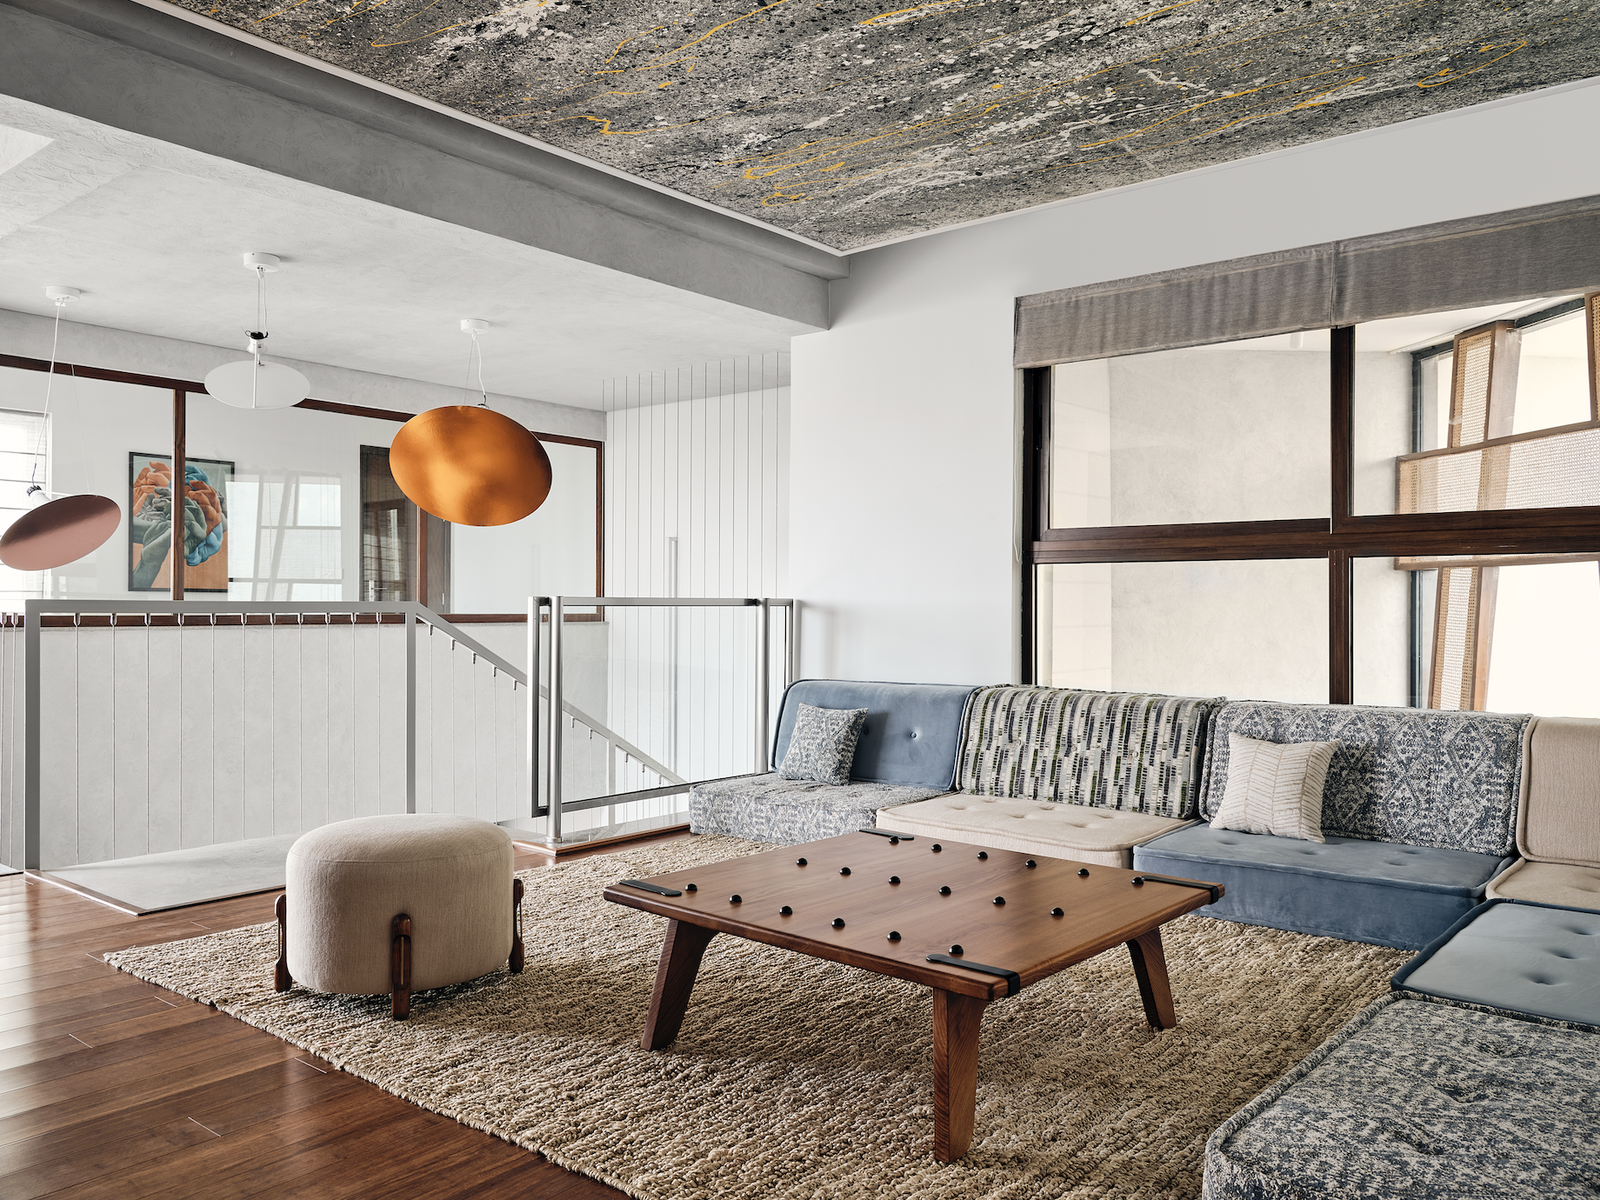sofa: (682, 673, 1600, 1197)
table: (601, 824, 1227, 1162)
wall art: (118, 444, 236, 600)
